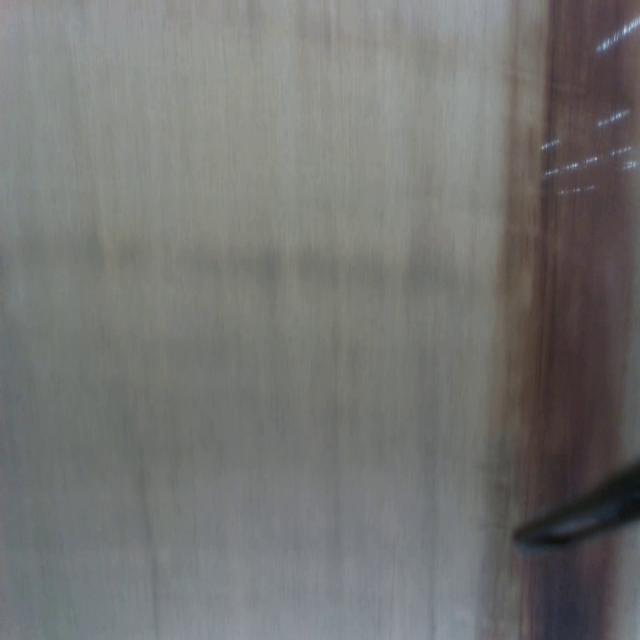color bleeding: (485, 0, 640, 468), (2, 225, 479, 307), (474, 554, 621, 636)
